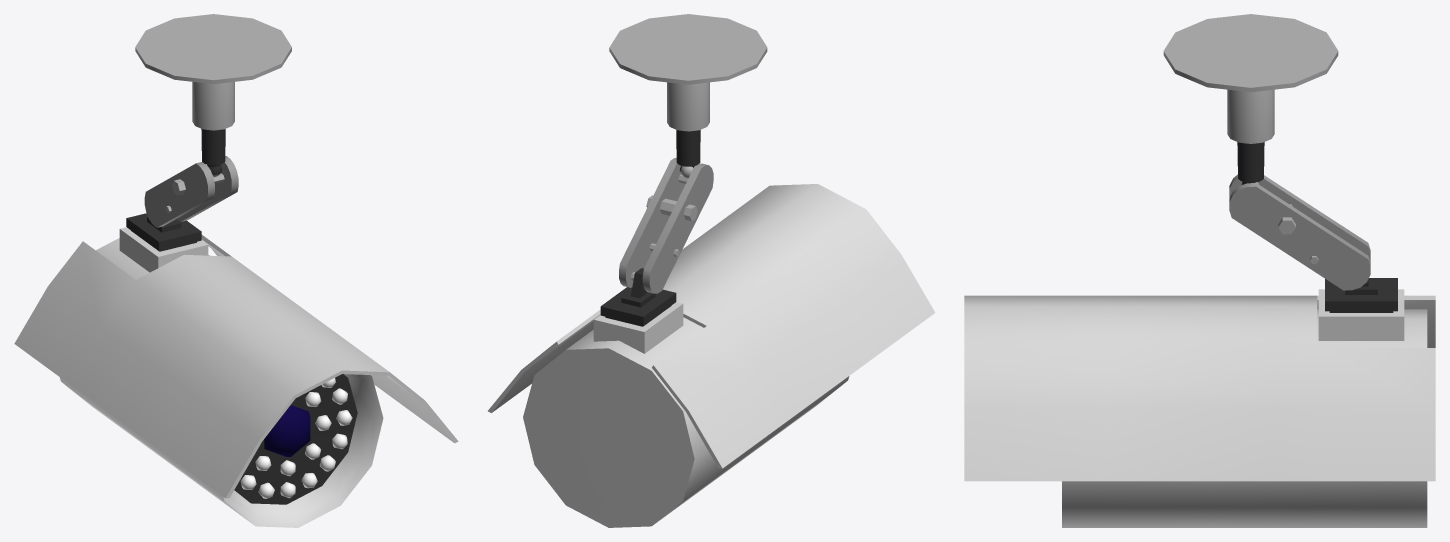
The picture shows the model from 3 angles, left to right: view 1: azimuth 30°, elevation 25°; view 2: azimuth 150°, elevation 25°; view 3: azimuth 270°, elevation 25°; orthographic projection. The views are drawn at different scales.
Parts seen in each view (by area): view 1: Lo-Body_01; view 2: Lo-Body_01; view 3: Lo-Body_01.
Boxes of the visible parts, x1=… form: Lo-Body_01: x1=14, y1=14, x2=458, y2=527; Lo-Body_01: x1=488, y1=14, x2=935, y2=527; Lo-Body_01: x1=964, y1=14, x2=1435, y2=527.
Bounding box in the file's own units: 0.1262 × 0.2166 × 0.198.
1 material, 1 textured.
